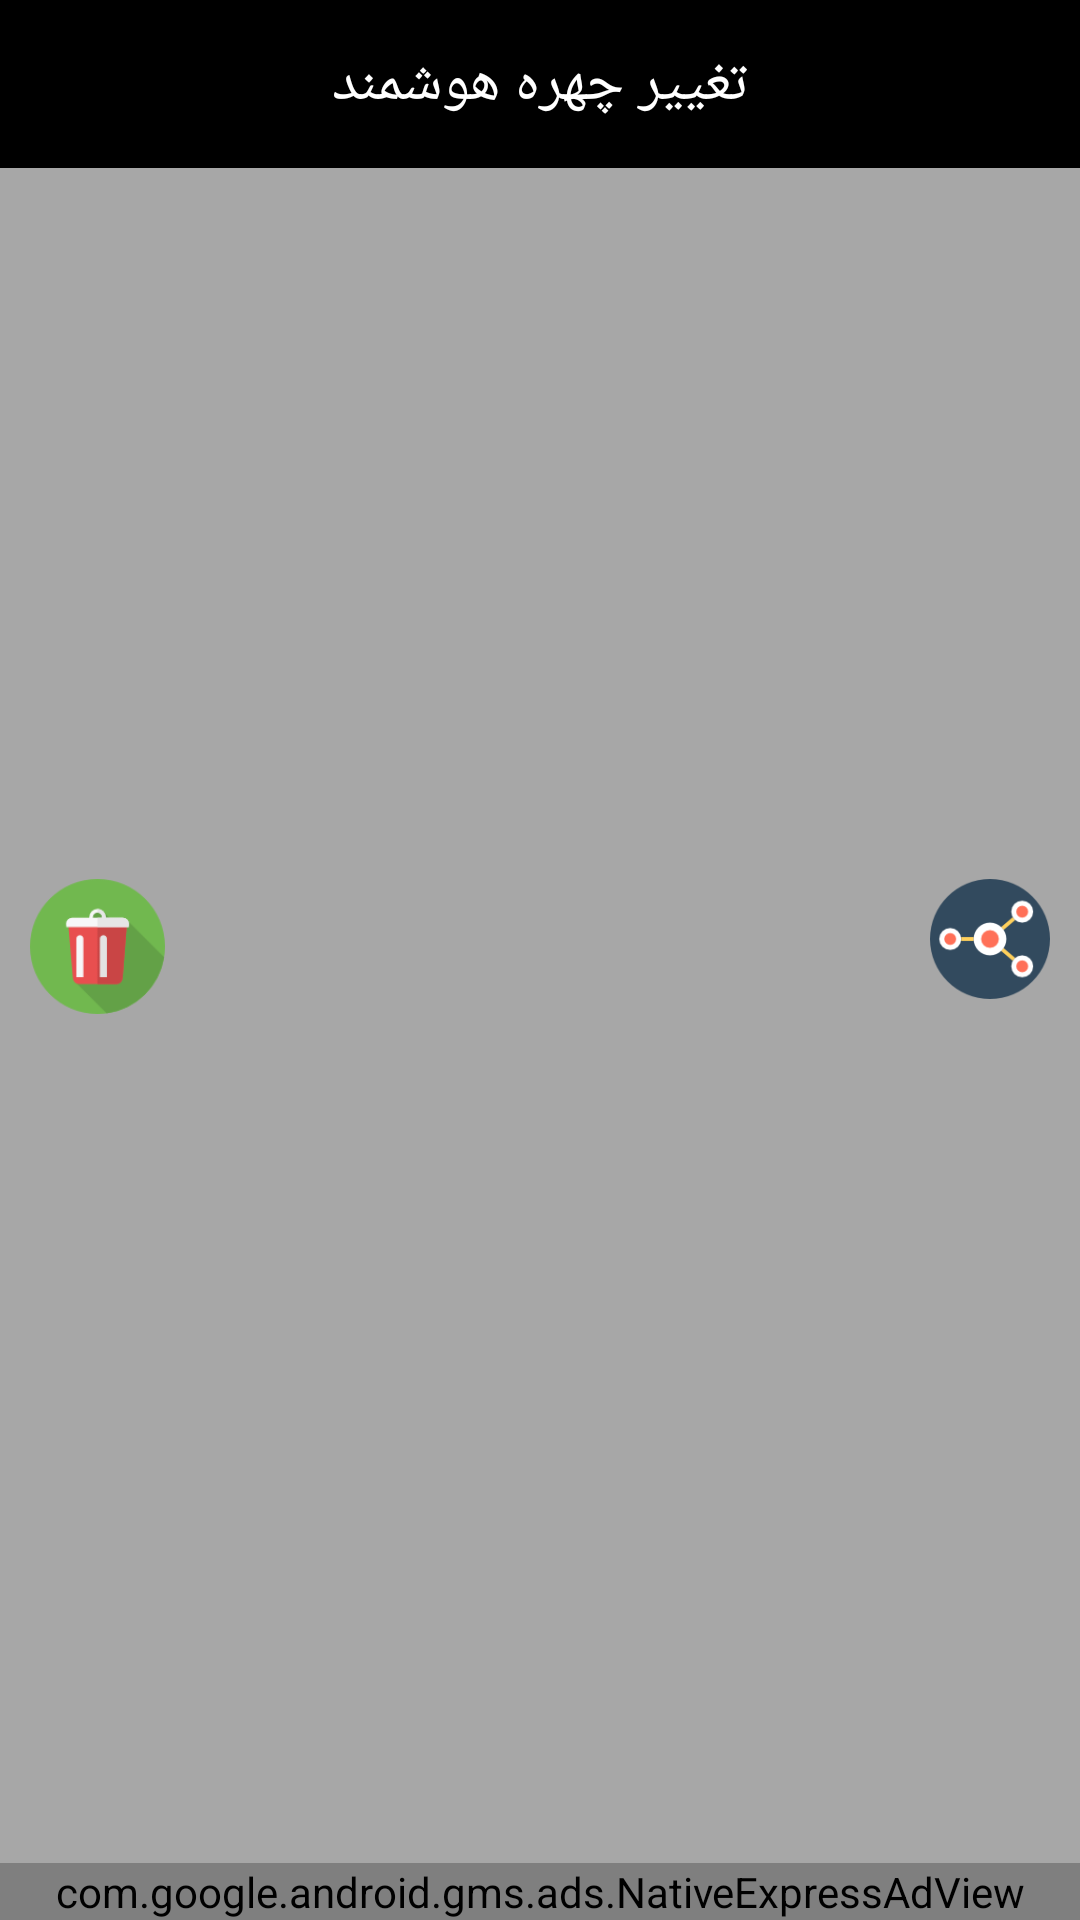

Screen size 1080*1920. Icon name, then its box in pixels as (x1, y1, x2, y2):
delete: (30, 879, 165, 1014)
share: (930, 879, 1050, 999)
